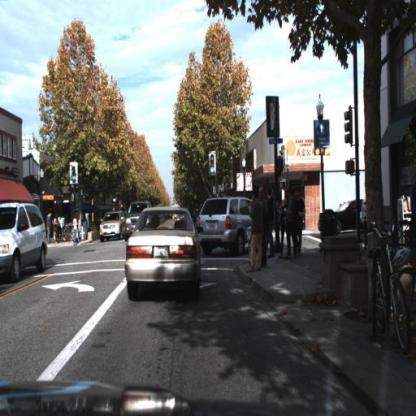car: (125, 208, 204, 300), (197, 194, 259, 258), (2, 203, 49, 280), (323, 196, 367, 239), (122, 202, 152, 241), (333, 199, 364, 232), (99, 212, 126, 240)
pedestrian: (245, 193, 266, 276), (295, 189, 309, 261), (259, 185, 270, 268), (293, 193, 306, 257), (286, 188, 297, 259), (281, 193, 290, 260), (72, 215, 82, 248), (72, 213, 81, 245), (58, 213, 66, 241), (47, 211, 54, 242), (54, 215, 60, 243)
trafficLight-Green: (70, 162, 79, 188), (209, 150, 217, 179)
